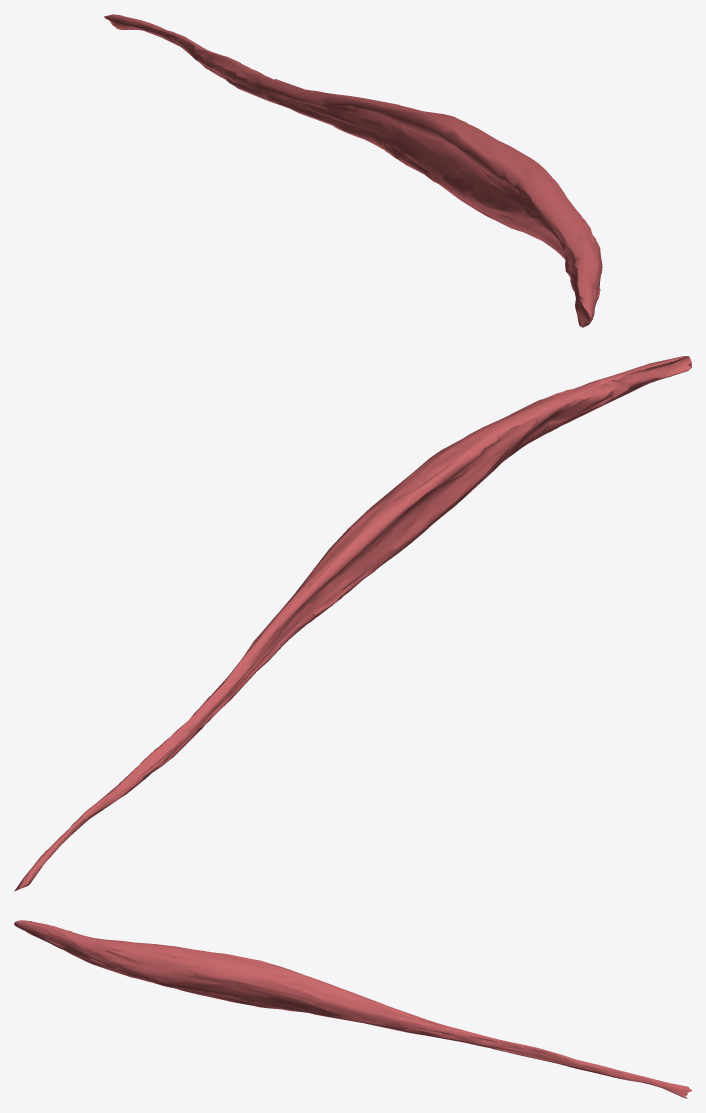
3 renders of one model, top to bottom at view 1: azimuth 30°, elevation 25°; view 2: azimuth 150°, elevation 25°; view 3: azimuth 270°, elevation 25°, orthographic. The views are drawn at different scales.
Visible parts, largest first — view 1: 左侧桡侧腕长伸肌; view 2: 左侧桡侧腕长伸肌; view 3: 左侧桡侧腕长伸肌.
Part boxes in pixels (x1,y1,x2,y2): 左侧桡侧腕长伸肌: (103, 14, 602, 327); 左侧桡侧腕长伸肌: (14, 356, 691, 891); 左侧桡侧腕长伸肌: (14, 920, 691, 1098).
Size of the model in its own units: 0.088 by 0.1035 by 0.4908.
